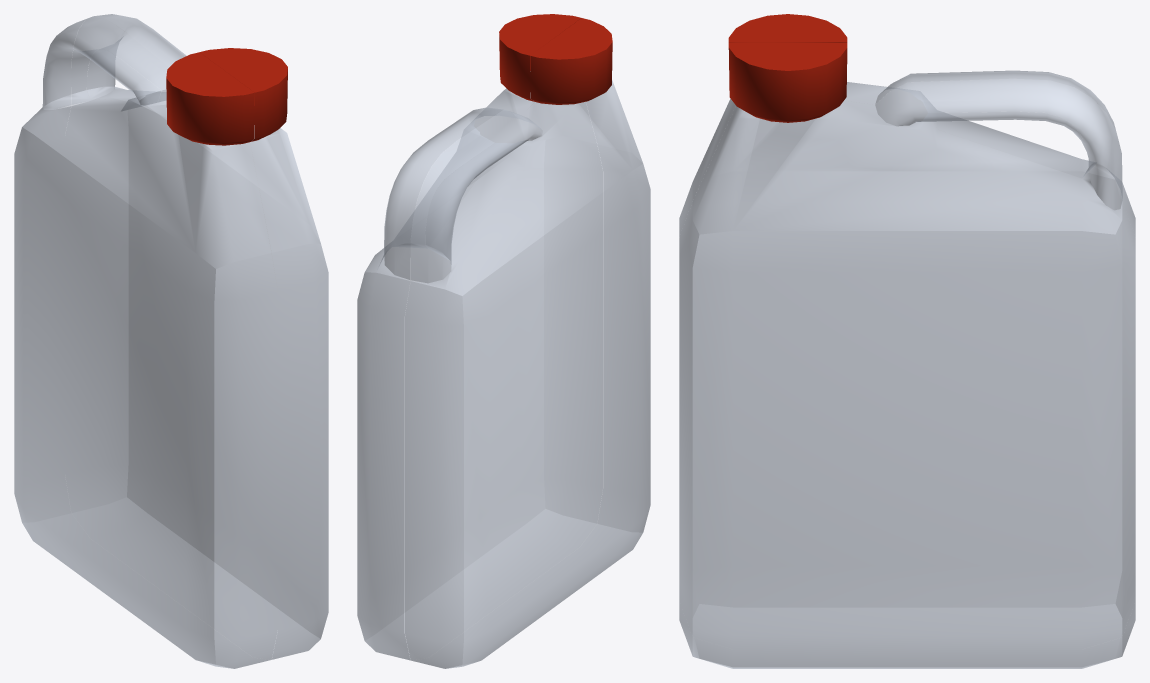
Rendered from pingzi4.fbx.
The picture shows the model from 3 angles, left to right: view 1: azimuth 30°, elevation 25°; view 2: azimuth 150°, elevation 25°; view 3: azimuth 270°, elevation 25°; orthographic projection. The views are drawn at different scales.
Visible parts, largest first — view 1: Box038, Box038.001; view 2: Box038, Box038.001; view 3: Box038, Box038.001.
Boxes of the visible parts, x1,y1,x2,y2 form: Box038: [14, 14, 328, 668]; Box038.001: [166, 48, 287, 145]; Box038: [357, 80, 650, 668]; Box038.001: [499, 14, 612, 104]; Box038: [679, 70, 1135, 668]; Box038.001: [728, 14, 847, 122].
Bounding box in the file's own units: 8.01 × 32.52 × 22.16.
